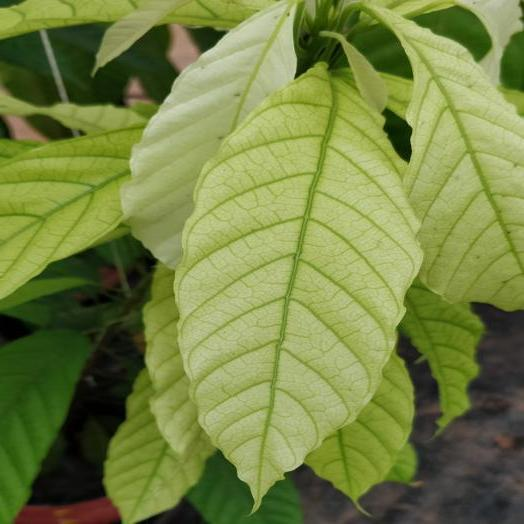Iron: (175, 64, 421, 507), (363, 4, 523, 310)
